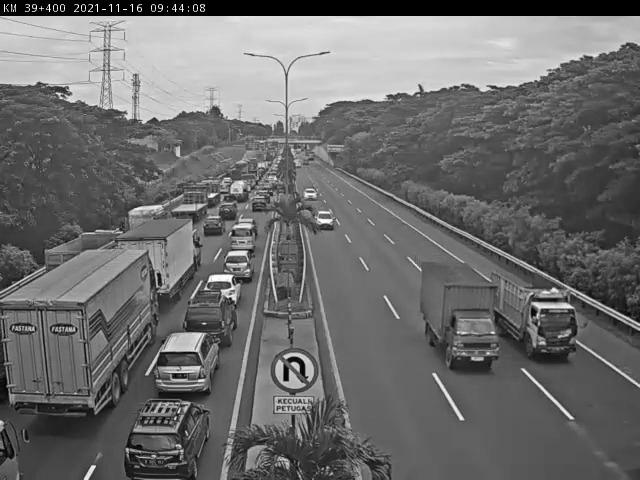car: (118, 396, 225, 480), (156, 325, 219, 394), (184, 288, 236, 348), (225, 246, 265, 279), (201, 270, 240, 303), (313, 206, 347, 243), (226, 220, 263, 250), (214, 198, 244, 223), (203, 214, 227, 235), (304, 184, 323, 203), (251, 196, 273, 212)
truck-l-: (0, 239, 160, 424), (174, 185, 208, 222)
truck-m-: (414, 256, 511, 382), (480, 256, 592, 364), (121, 213, 197, 307), (41, 224, 131, 303), (125, 204, 167, 244)
